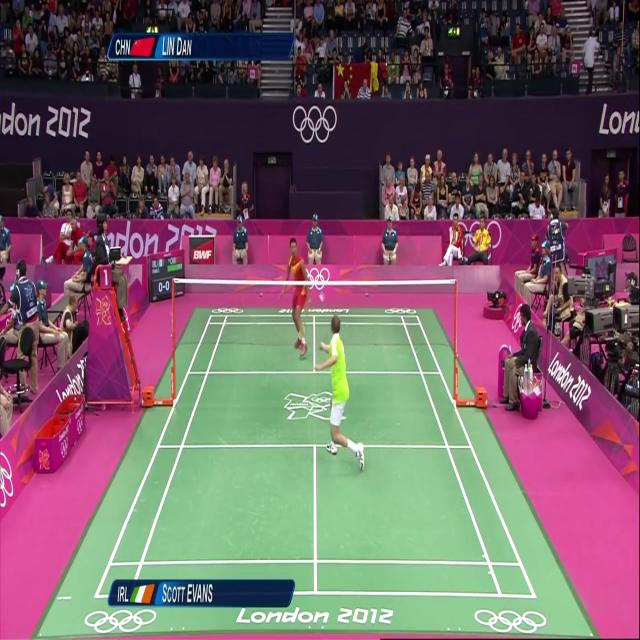Net: (172, 278, 457, 351)
Player1: (306, 307, 380, 483)
Player2: (277, 232, 314, 364)
Shuttlecock: (319, 289, 326, 307)
